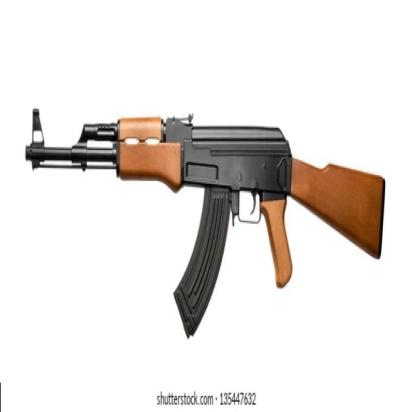Gun: (24, 109, 387, 335)
